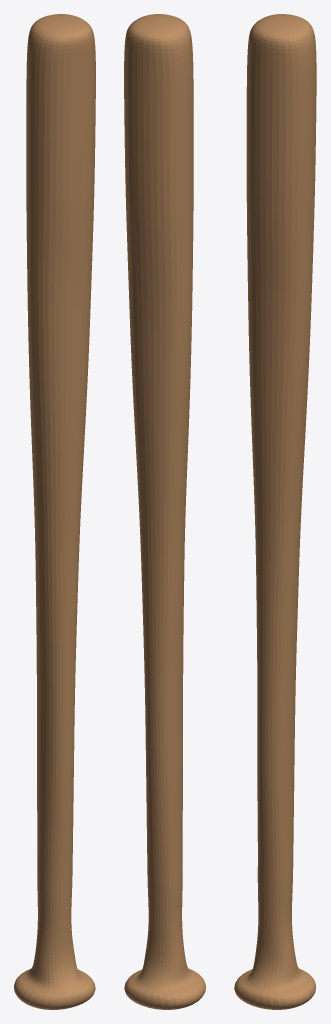
The model's file is baseballbat1.fbx.
The picture shows the model from 3 angles, left to right: view 1: azimuth 30°, elevation 25°; view 2: azimuth 150°, elevation 25°; view 3: azimuth 330°, elevation 25°; orthographic projection.
Parts seen in each view (by area): view 1: Cube; view 2: Cube; view 3: Cube.
Part boxes in pixels (box(x1,y1,x2,y2)): Cube: box(14, 14, 95, 1009); Cube: box(124, 14, 205, 1009); Cube: box(234, 14, 316, 1009).
Bounding box in the file's own units: 35.87 × 466 × 33.85.
